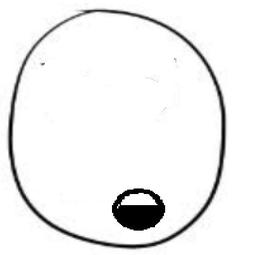open_mouth: (107, 178, 170, 236)
